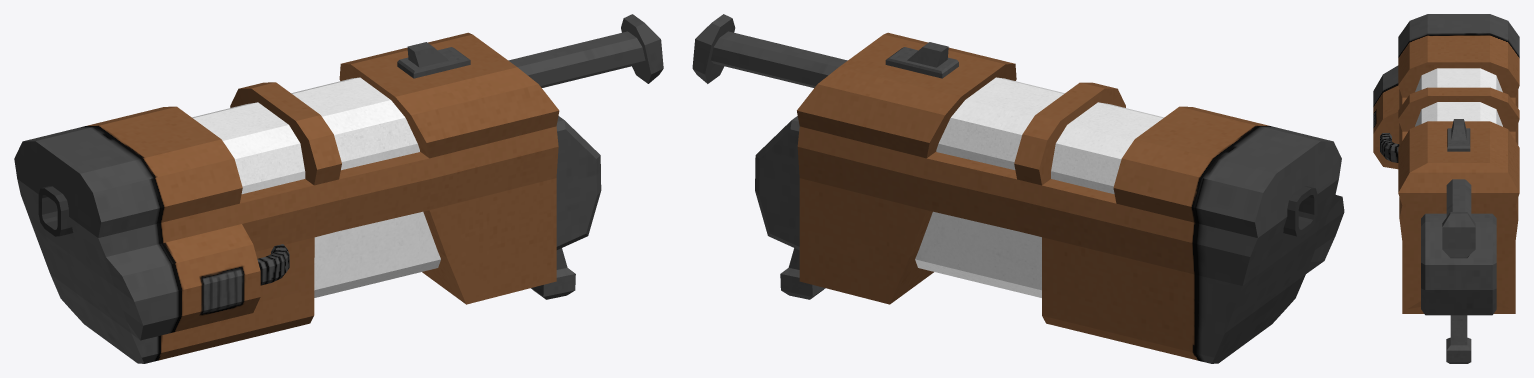
Rendered from Railgun.fbx.
The picture shows the model from 3 angles, left to right: view 1: azimuth 30°, elevation 25°; view 2: azimuth 150°, elevation 25°; view 3: azimuth 270°, elevation 25°; orthographic projection. The views are drawn at different scales.
Parts seen in each view (by area): view 1: Cube.003; view 2: Cube.003; view 3: Cube.003.
Part boxes in pixels (<box>): Cube.003: <box>14,14,663,363</box>; Cube.003: <box>692,14,1344,363</box>; Cube.003: <box>1373,14,1519,363</box>.
Bounding box in the file's own units: 168 × 74.11 × 50.64.
